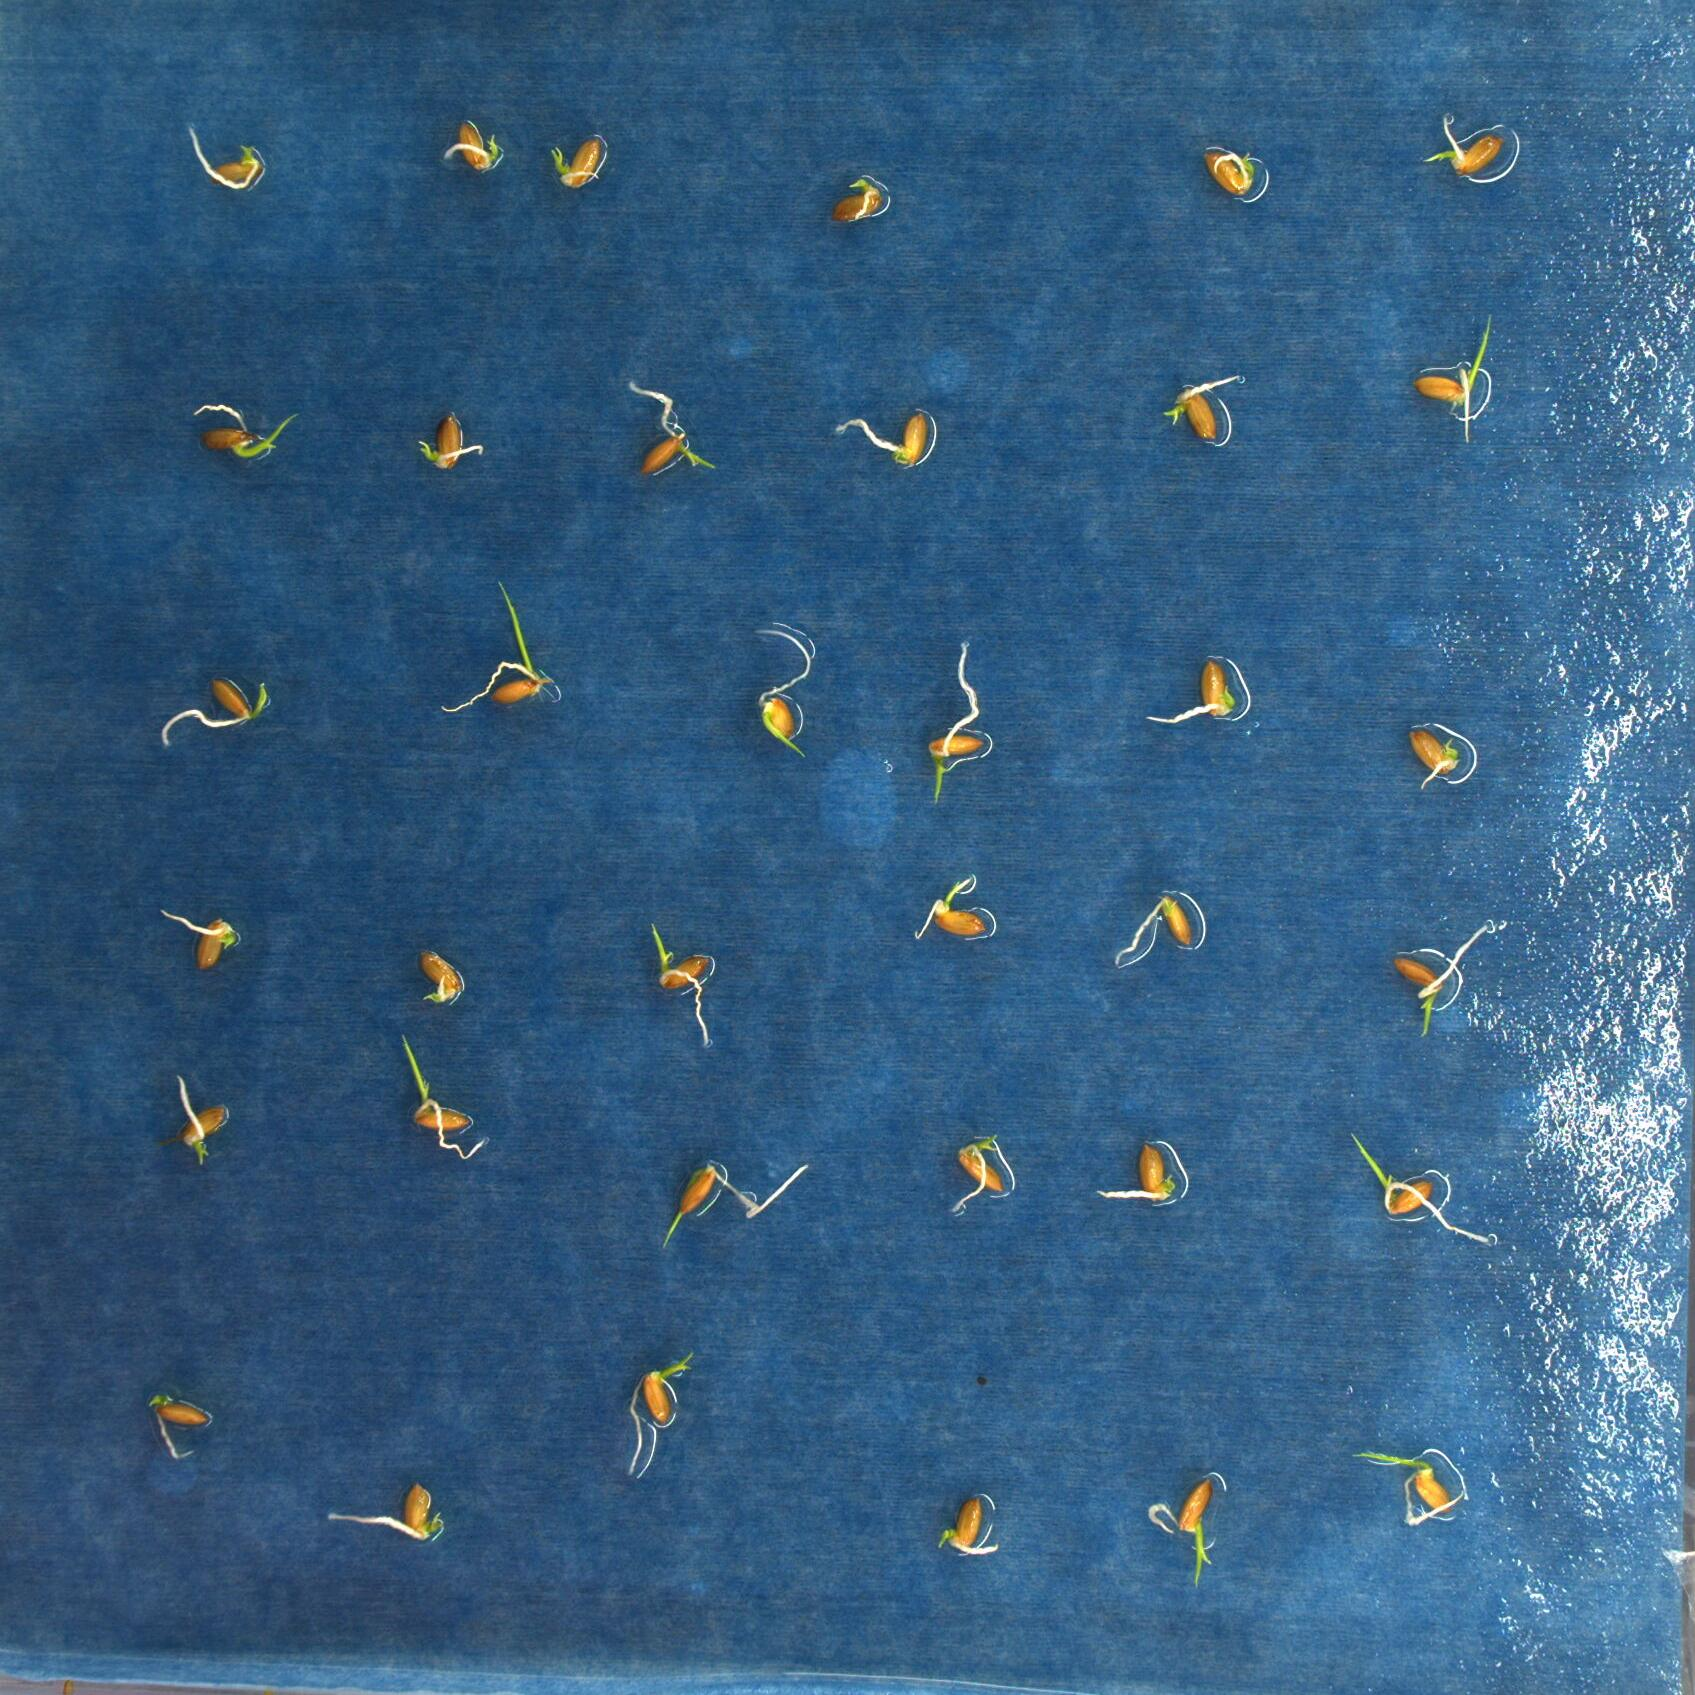not sprout: (321, 1470, 458, 1548), (1141, 646, 1253, 737), (1093, 1136, 1200, 1211), (827, 404, 934, 473), (938, 1485, 1006, 1569), (422, 414, 489, 481), (830, 174, 891, 230), (445, 116, 501, 172)
sprout: (1338, 1127, 1506, 1256), (657, 1139, 823, 1257), (439, 576, 560, 726), (739, 616, 841, 765), (917, 626, 997, 818), (621, 1333, 709, 1492), (1380, 925, 1492, 1048), (636, 916, 731, 1055), (1144, 1458, 1236, 1599), (397, 1032, 490, 1170), (147, 663, 279, 757), (1419, 309, 1506, 449), (616, 373, 719, 484), (1352, 1437, 1468, 1532), (158, 127, 298, 196), (154, 891, 256, 983), (1167, 357, 1263, 453), (931, 1132, 1024, 1223), (1187, 129, 1277, 220), (1107, 885, 1201, 972), (205, 388, 298, 475), (910, 865, 1000, 948), (168, 1080, 241, 1170), (411, 934, 494, 1014), (1433, 115, 1509, 196), (545, 124, 616, 200), (1406, 720, 1478, 792), (149, 1399, 222, 1468)
